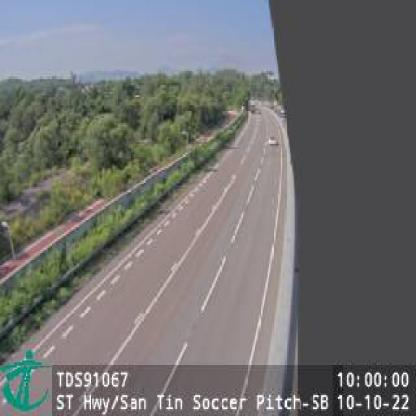Car: (270, 135, 279, 146)
